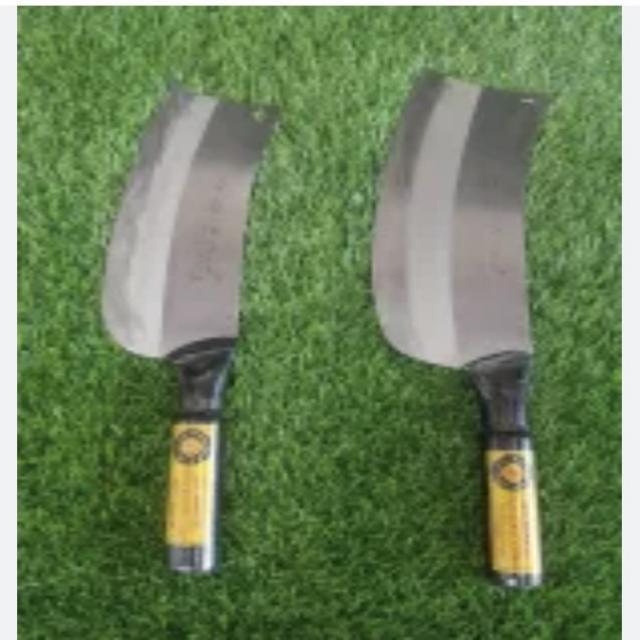Knife: (90, 60, 584, 608)
